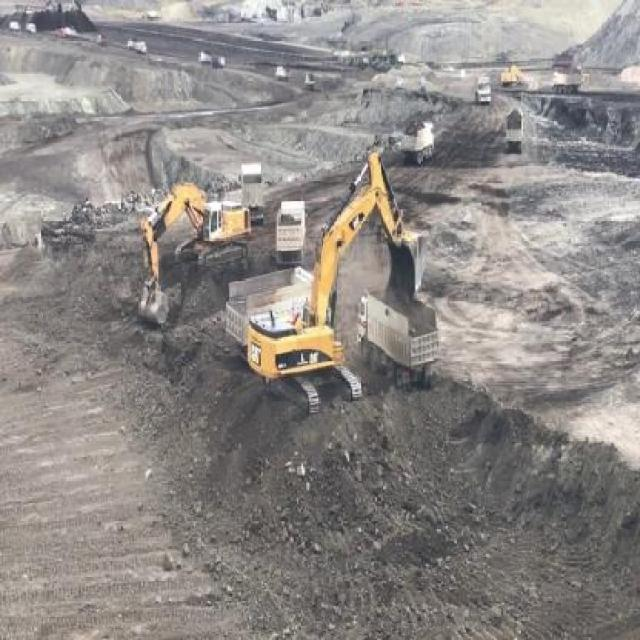dump_truck: (356, 285, 439, 393), (226, 265, 312, 344), (274, 197, 306, 263), (239, 161, 263, 225), (401, 120, 433, 162), (506, 110, 522, 152), (475, 74, 491, 103)
excavator: (245, 150, 428, 418), (137, 179, 252, 327)
